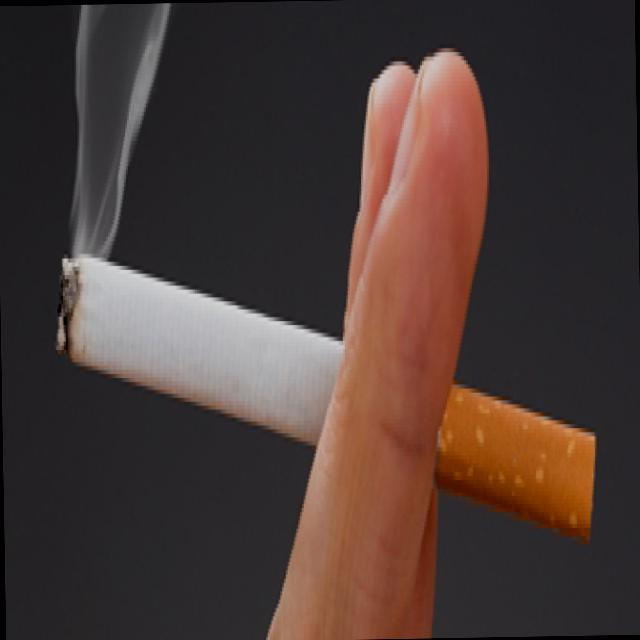cigarette: (50, 239, 608, 584)
